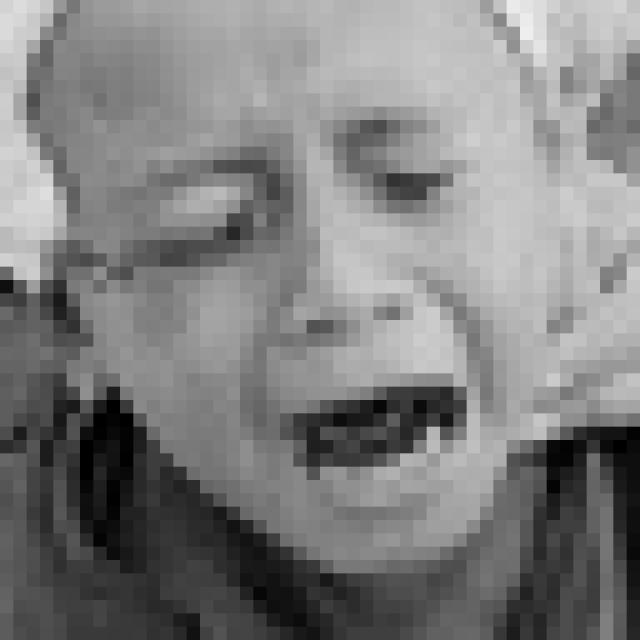sad: (116, 101, 509, 526)
